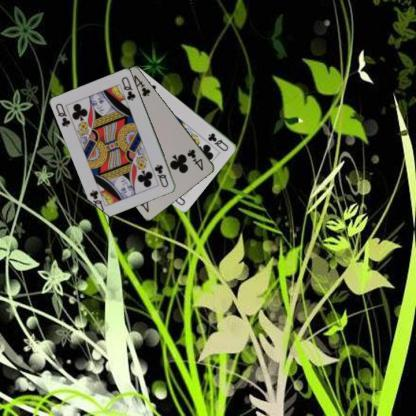4c: (184, 147, 204, 172)
Qc: (206, 130, 230, 152), (53, 101, 72, 128), (152, 162, 170, 189)
